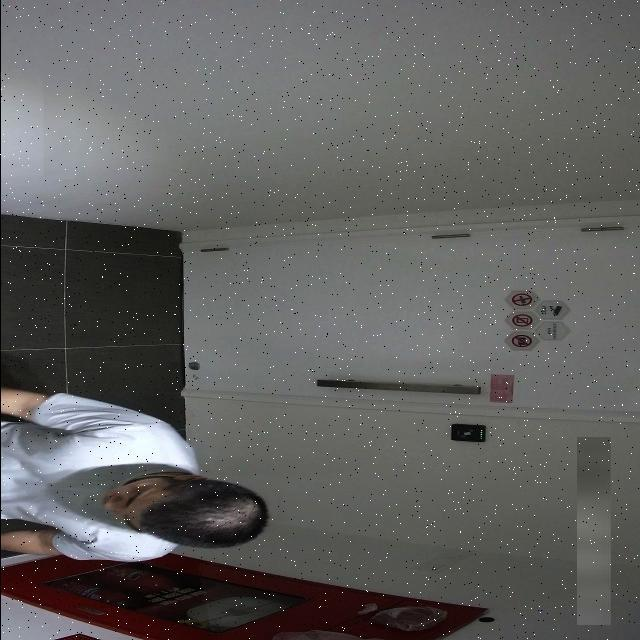no_gloves: (160, 491, 248, 546)
